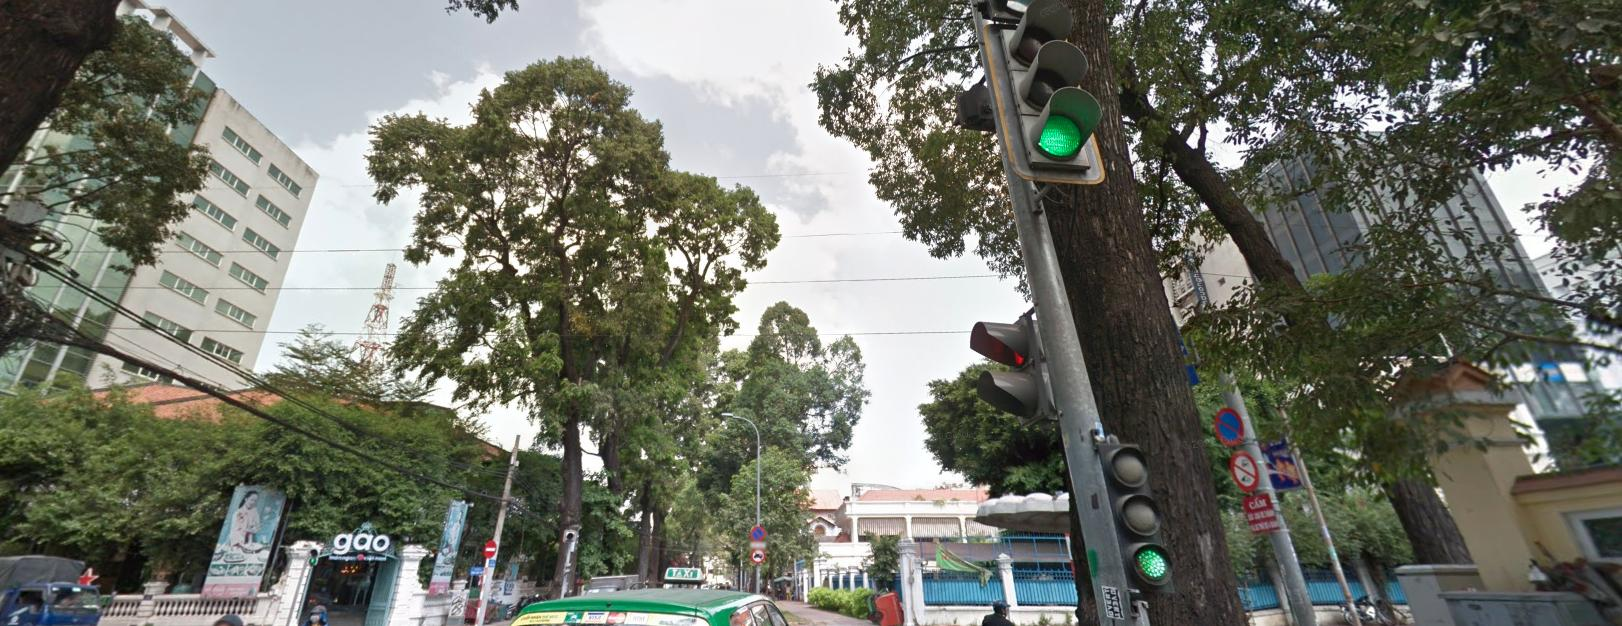Cam con lai: (1228, 450, 1258, 491), (1229, 450, 1260, 489), (750, 547, 765, 563), (749, 548, 765, 562)
Cam dung va do: (1213, 403, 1244, 443), (1213, 406, 1242, 444), (750, 526, 765, 541), (750, 526, 765, 540)
Cam nguoc chieu: (481, 539, 495, 558), (483, 538, 497, 556)
